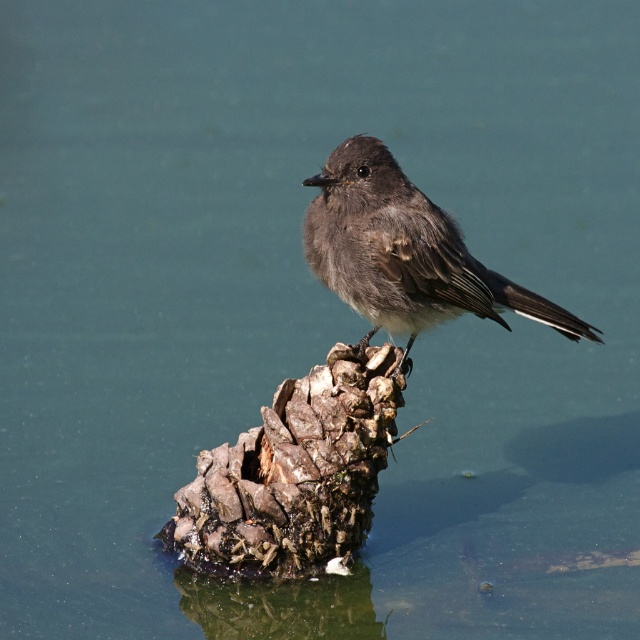Sparrow: (302, 134, 606, 379)
